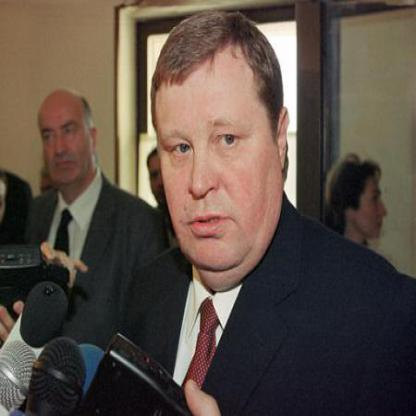face: (153, 12, 280, 278), (41, 91, 92, 188), (353, 164, 394, 242), (150, 150, 176, 204)
